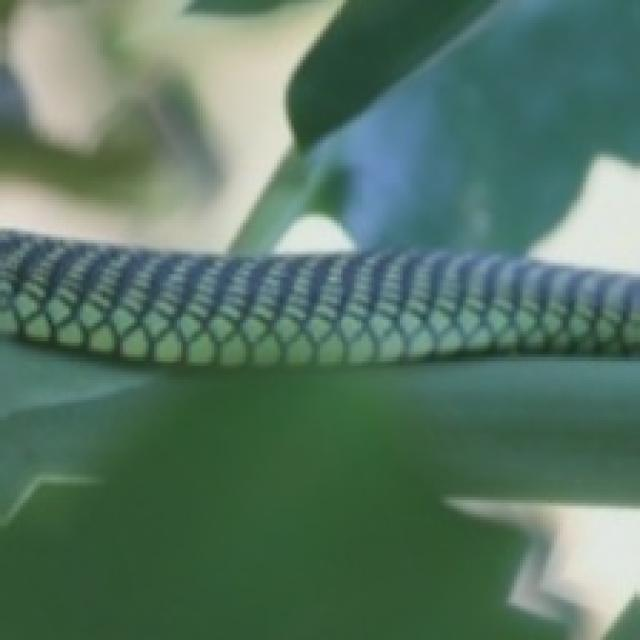paradise tree snake: (0, 231, 637, 363)
